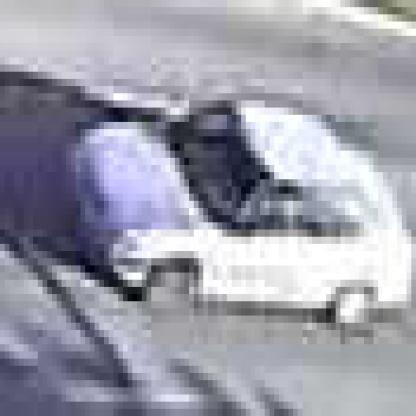car: (67, 102, 412, 353)
